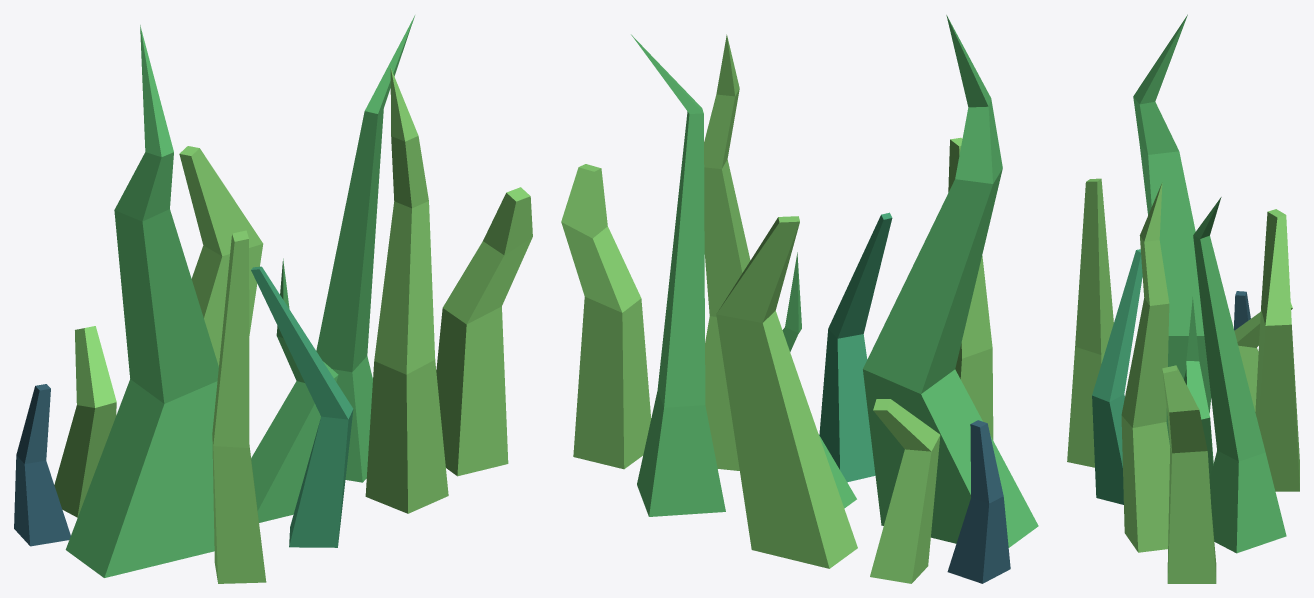
File: Grass_9.fbx
3 views of the same model, side by side, from view 1: azimuth 30°, elevation 25°; view 2: azimuth 150°, elevation 25°; view 3: azimuth 270°, elevation 25° (orthographic). The views are drawn at different scales.
Visible parts, largest first — view 1: Grass_9; view 2: Grass_9; view 3: Grass_9.
Part boxes in pixels (box(x1,y1,x2,y2)): Grass_9: box(14, 15, 532, 583); Grass_9: box(561, 15, 1038, 583); Grass_9: box(1067, 14, 1299, 583).
Bounding box in the file's own units: 49.66 × 52.4 × 25.9.
